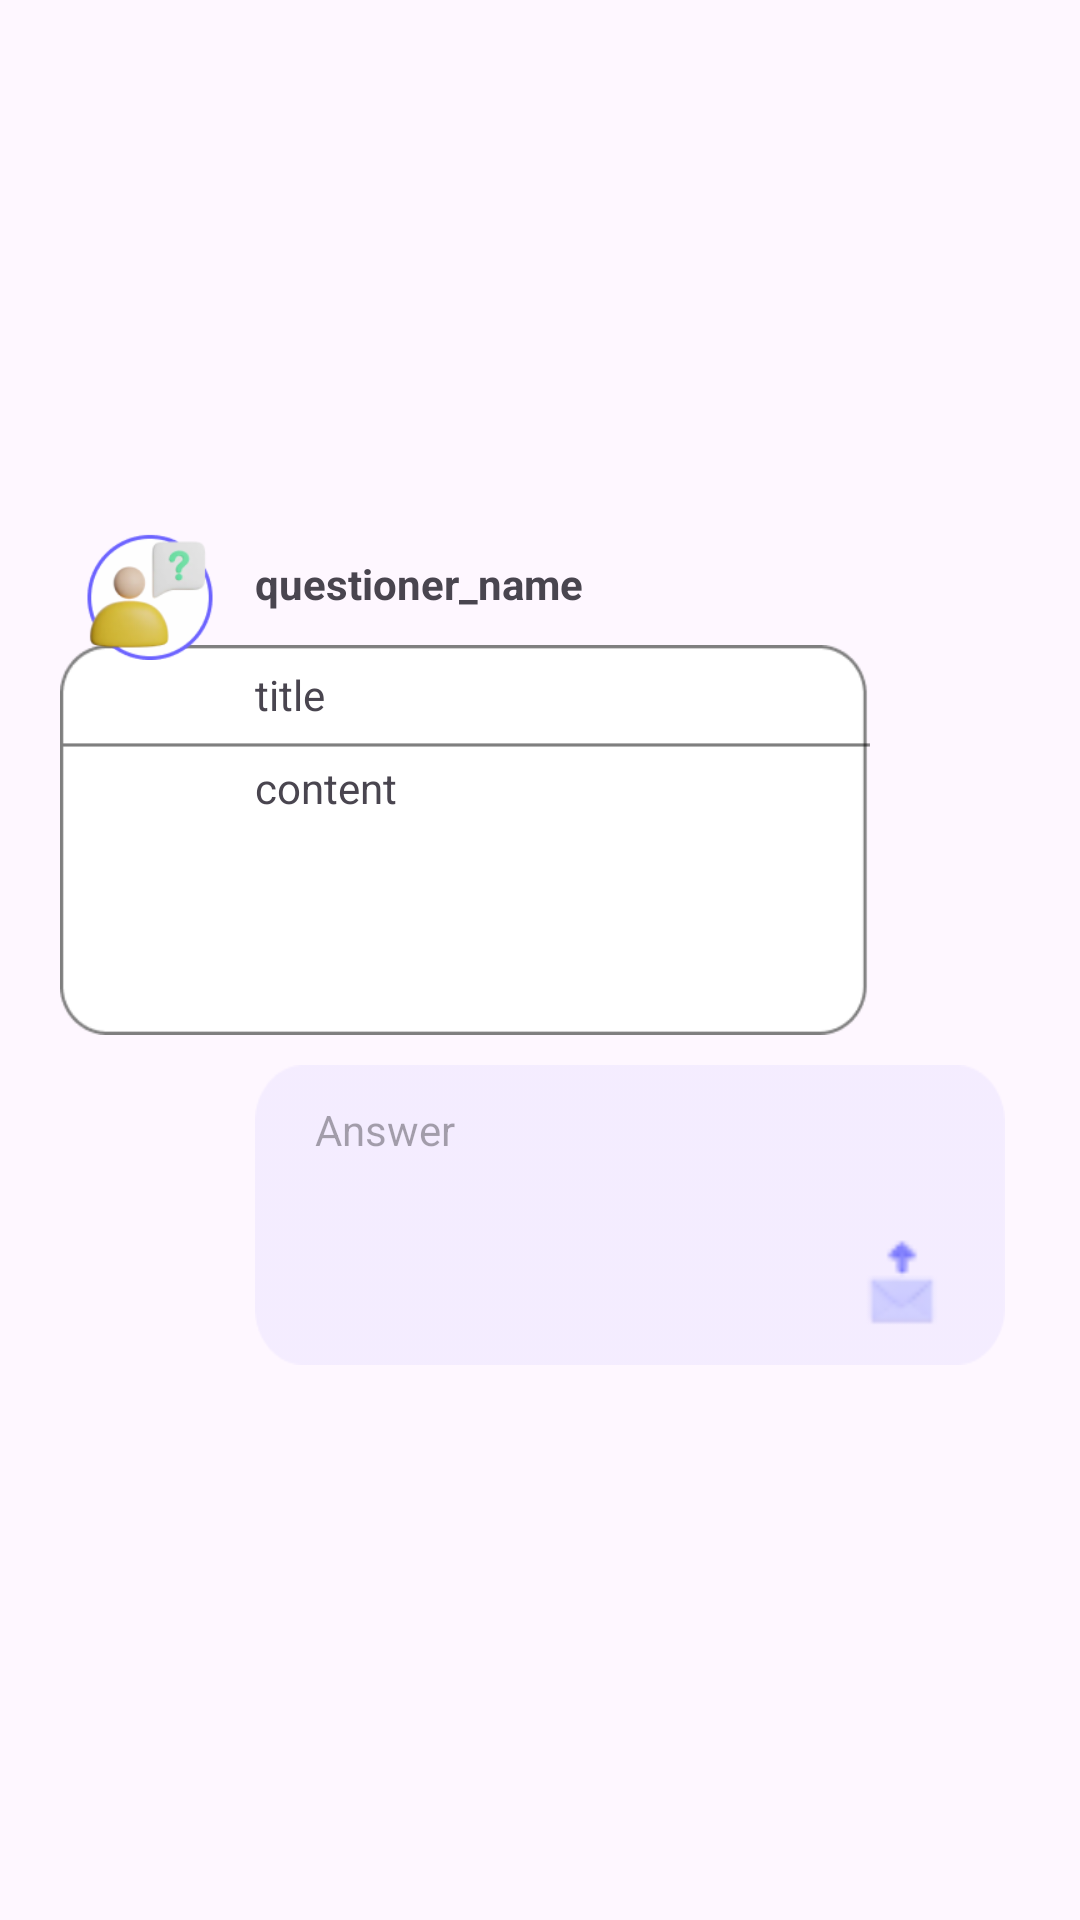

Where icons sit on this 1080px x 1920px app screen, as (x1, y1, x2, y2):
me request: (75, 535, 225, 660)
